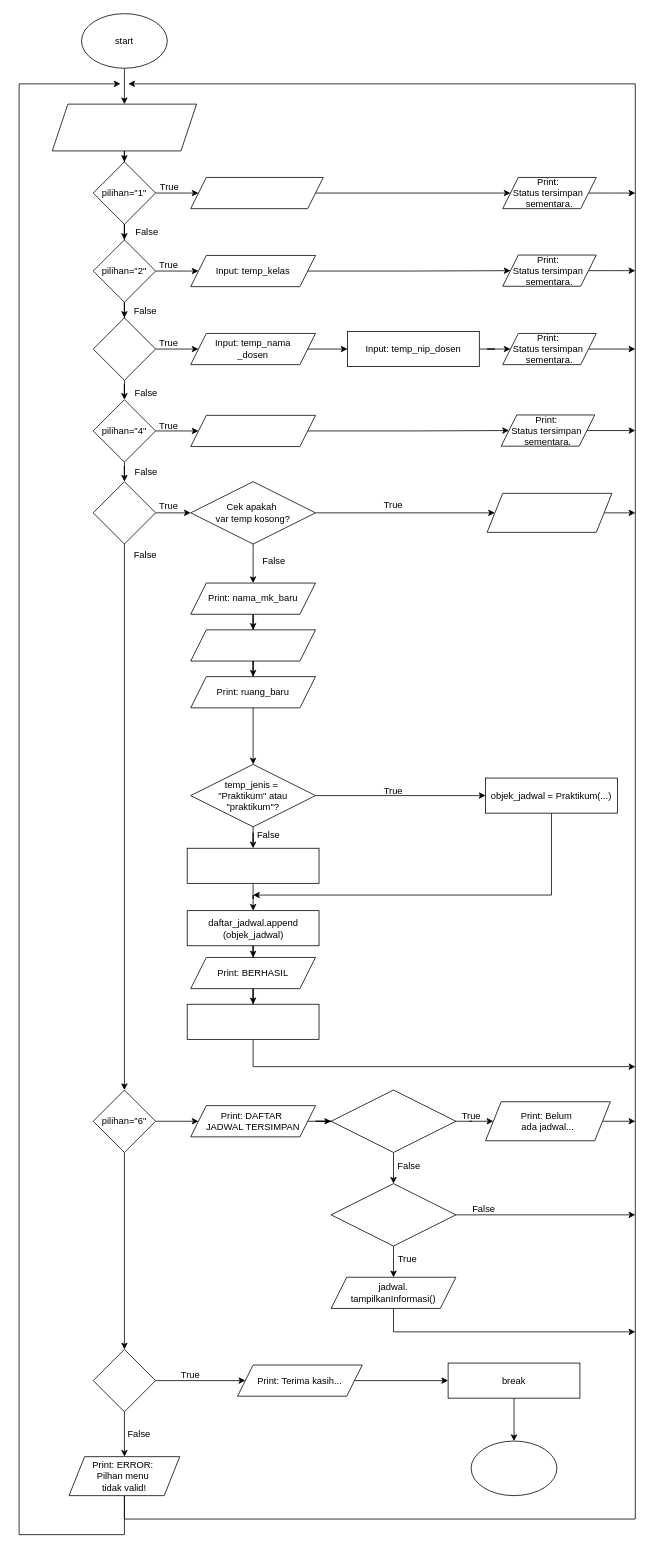
Image size: 655x1555. Some labels were removed from this diagram. The centre of each missing label's shape, as x and y in pixels:
end: [513,1468]
Input: temp_jenis: [253,431]
Input: temp_sks: [256,193]
Masih ada data di daftar_jadwal?: [393,1214]
not daftar_jadwal: [393,1120]
objek_jadwal = Teori(...): [252,865]
pilihan="3": [124,348]
pilihan="5": [124,512]
pilihan="7": [124,1380]
Print: daftar menu 1-7 Input: pilihan_menu: [124,127]
Print: GAGAL: Mohin lengkapi Menu 1 - 4...: [549,512]
Print: jam_baru: [253,645]
Reset semua var temp menjadi string kosong (""): [252,1021]
